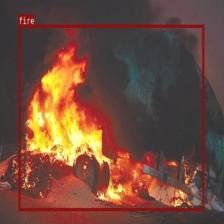fire: (18, 24, 204, 210)
